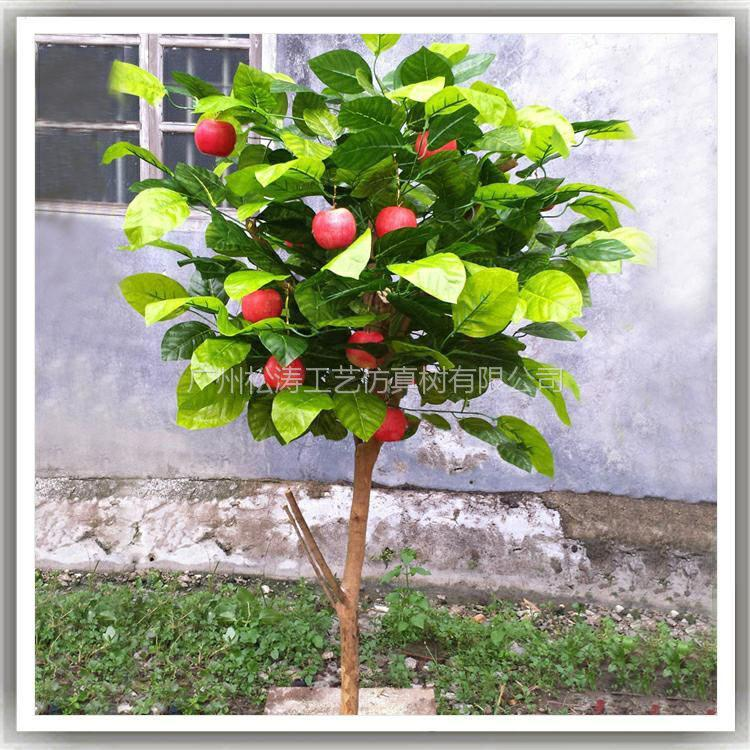apple: (310, 207, 356, 249), (237, 286, 282, 323), (193, 118, 235, 157), (373, 204, 416, 238)
